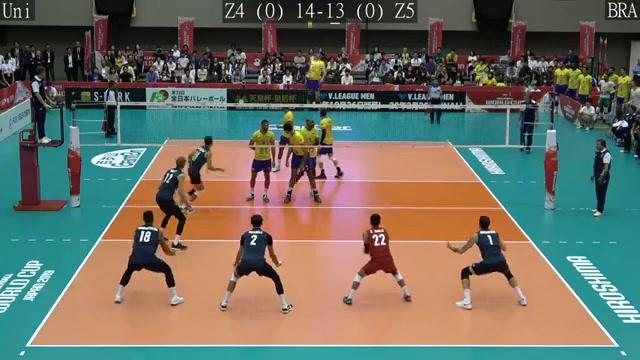ball: (306, 21, 315, 28)
